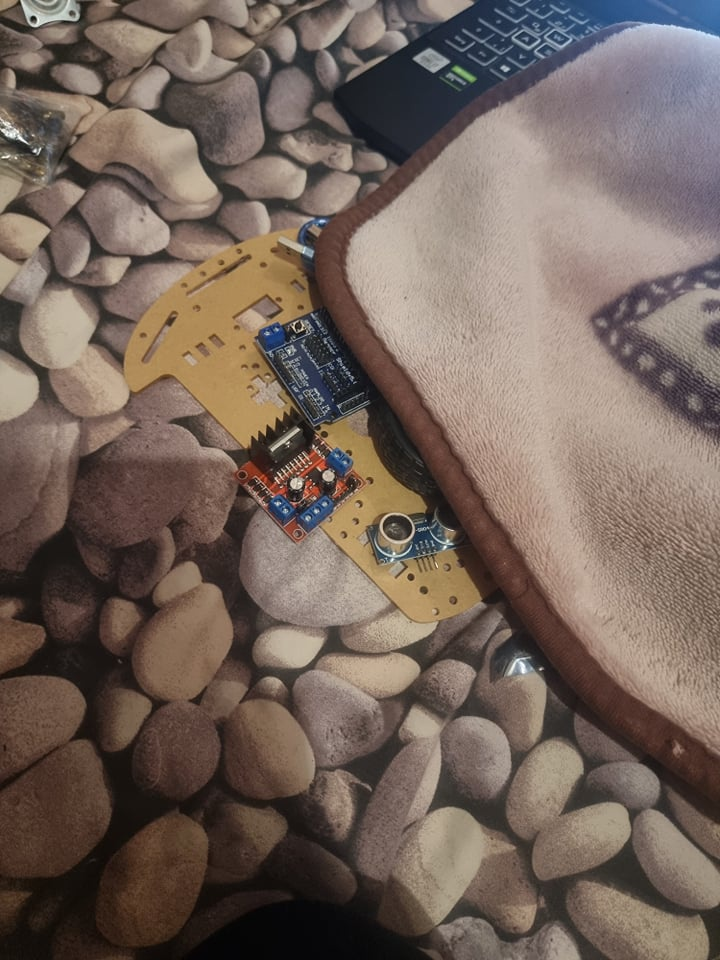5V EXPANSION: (255, 307, 379, 426)
MOTOR: (232, 414, 360, 544)
SENSOR: (373, 505, 460, 565)
